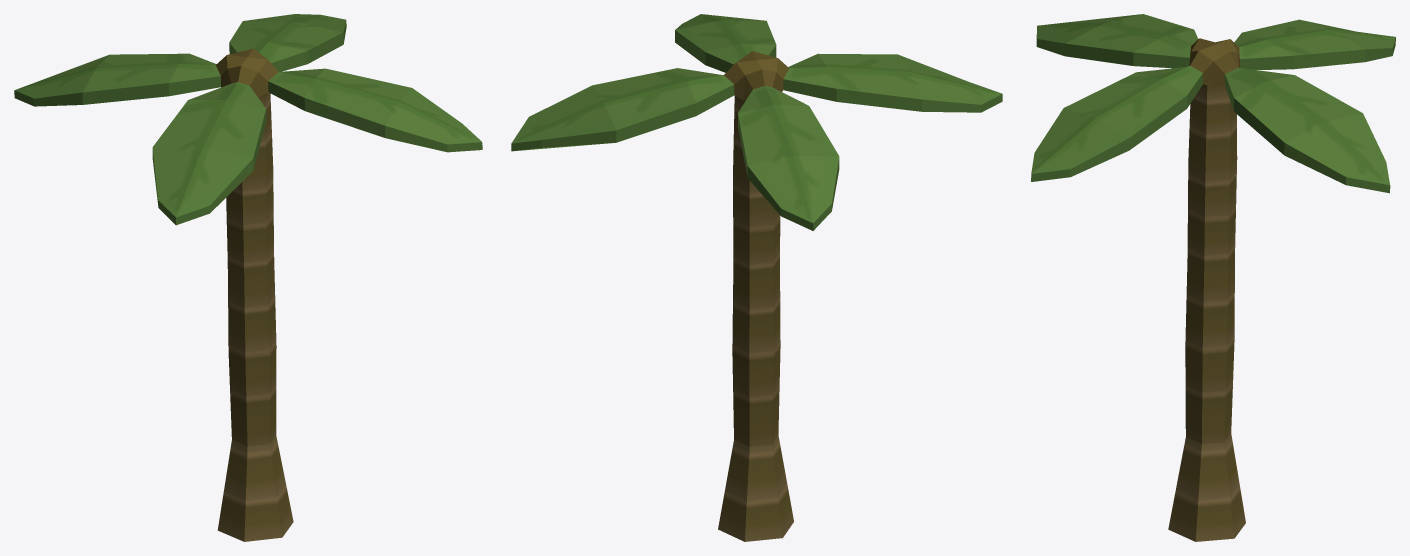
Rendered from PalmTree07.fbx.
3 renders of one model, left to right at view 1: azimuth 30°, elevation 25°; view 2: azimuth 150°, elevation 25°; view 3: azimuth 270°, elevation 25°, orthographic. The views are drawn at different scales.
Parts seen in each view (by area): view 1: PalmTree07; view 2: PalmTree07; view 3: PalmTree07.
Boxes of the visible parts, x1,y1,x2,y2 form: PalmTree07: (14, 14, 482, 541); PalmTree07: (511, 14, 1002, 541); PalmTree07: (1031, 14, 1395, 541).
Bounding box in the file's own units: 44.09 × 61.38 × 42.29.
1 material, 1 textured.
